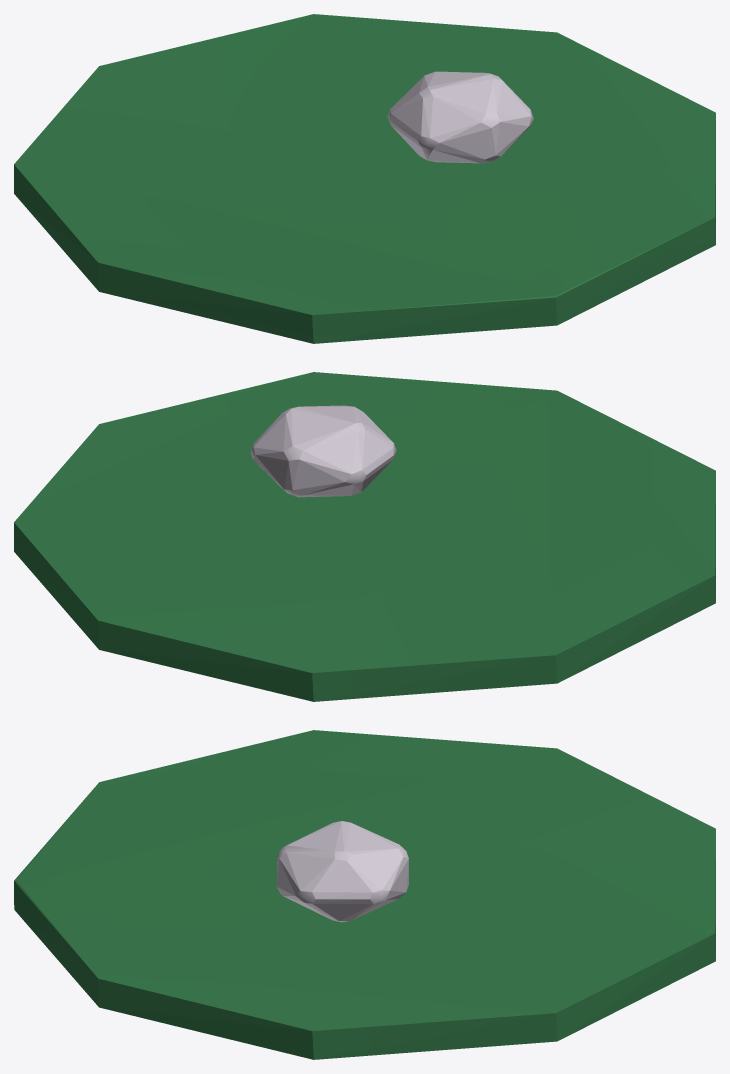
The model's file is prop_lilypad_lod1.glb.
3 views of the same model, one above another, from view 1: azimuth 30°, elevation 25°; view 2: azimuth 150°, elevation 25°; view 3: azimuth 270°, elevation 25° (orthographic).
Visible parts, largest first — view 1: prop_lilypad_lod1; view 2: prop_lilypad_lod1; view 3: prop_lilypad_lod1.
Part boxes in pixels (x1,y1,x2,y2): prop_lilypad_lod1: (14, 14, 715, 343); prop_lilypad_lod1: (14, 372, 715, 701); prop_lilypad_lod1: (14, 730, 715, 1059).
Size of the model in its own units: 1.08 by 0.179 by 1.06.
